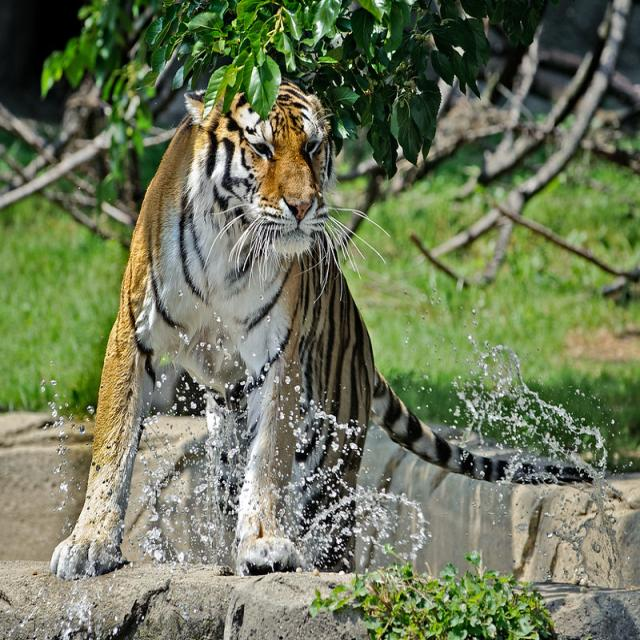Tiger: (49, 77, 552, 575)
